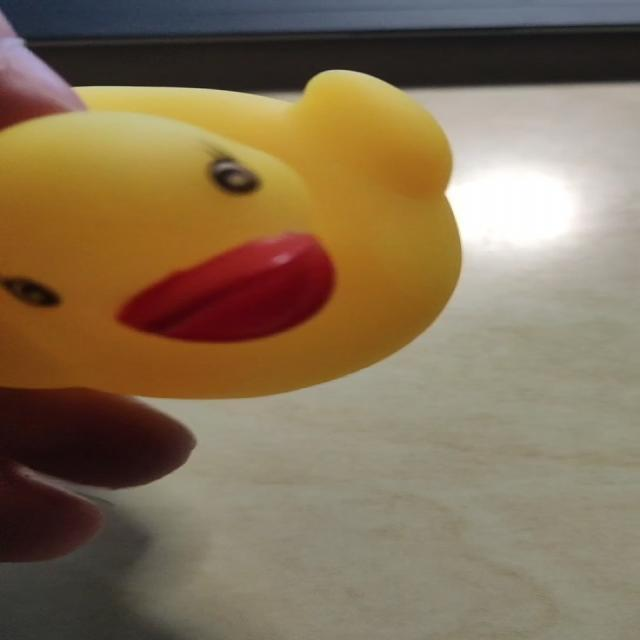rubber-duck: (0, 70, 459, 396)
